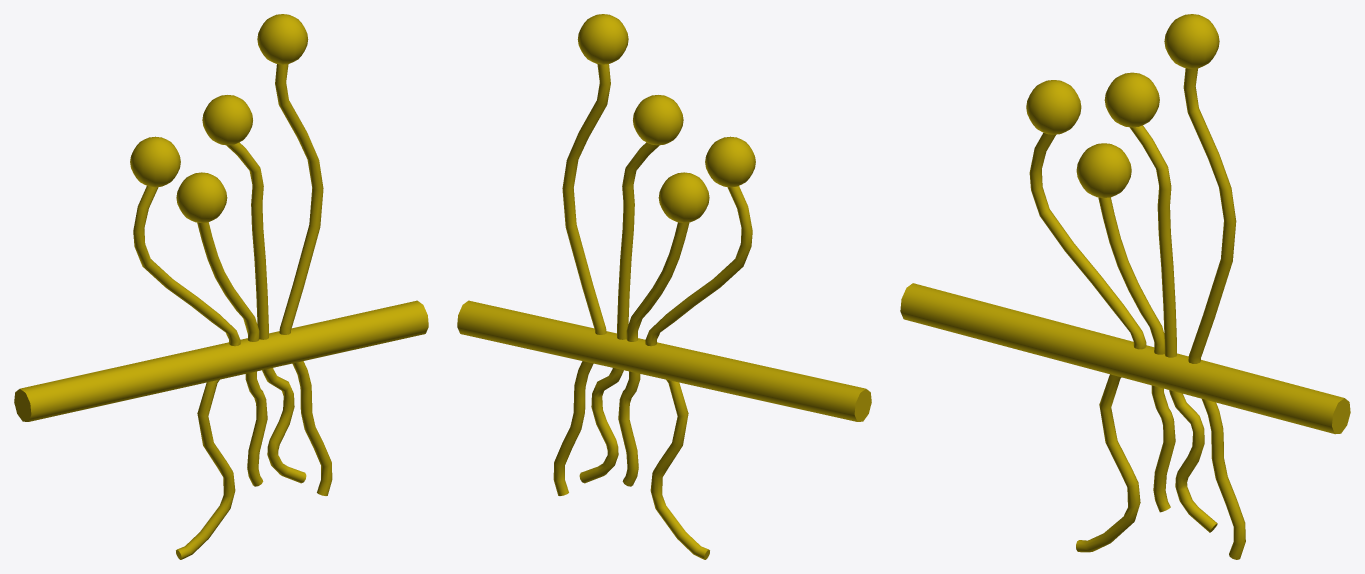
Rendered from spore_formation_in_rhizopus.fbx.
3 views of the same model, side by side, from view 1: azimuth 30°, elevation 25°; view 2: azimuth 150°, elevation 25°; view 3: azimuth 330°, elevation 25° (orthographic). The views are drawn at different scales.
Visible parts, largest first — view 1: pCylinder7, pCylinder15, pCylinder12, pCylinder13, pCylinder14, pSphere1, pSphere4, pSphere2, pSphere3; view 2: pCylinder7, pCylinder15, pCylinder12, pCylinder13, pCylinder14, pSphere1, pSphere4, pSphere2, pSphere3; view 3: pCylinder7, pCylinder15, pCylinder12, pCylinder13, pCylinder14, pSphere2, pSphere1, pSphere4, pSphere3.
Boxes of the visible parts, <box> form: pCylinder7: <box>14,300,428,421</box>; pCylinder15: <box>275,64,332,495</box>; pCylinder12: <box>133,186,240,559</box>; pCylinder13: <box>226,142,306,483</box>; pCylinder14: <box>197,222,267,486</box>; pSphere1: <box>130,136,180,187</box>; pSphere4: <box>257,14,308,64</box>; pSphere2: <box>176,172,227,222</box>; pSphere3: <box>202,95,252,145</box>; pCylinder7: <box>457,300,871,421</box>; pCylinder15: <box>553,64,610,495</box>; pCylinder12: <box>645,186,752,559</box>; pCylinder13: <box>579,142,659,483</box>; pCylinder14: <box>618,222,689,486</box>; pSphere1: <box>705,136,755,187</box>; pSphere4: <box>577,14,628,64</box>; pSphere2: <box>658,172,709,222</box>; pSphere3: <box>633,95,683,145</box>; pCylinder7: <box>900,283,1350,434</box>; pCylinder15: <box>1183,68,1245,559</box>; pCylinder12: <box>1029,132,1146,552</box>; pCylinder13: <box>1130,125,1217,532</box>; pCylinder14: <box>1098,197,1175,512</box>; pSphere2: <box>1076,143,1131,197</box>; pSphere1: <box>1026,80,1081,134</box>; pSphere4: <box>1164,14,1219,68</box>; pSphere3: <box>1104,72,1159,127</box>.
Bounding box in the file's own units: 64.18 × 79.95 × 7.11.
